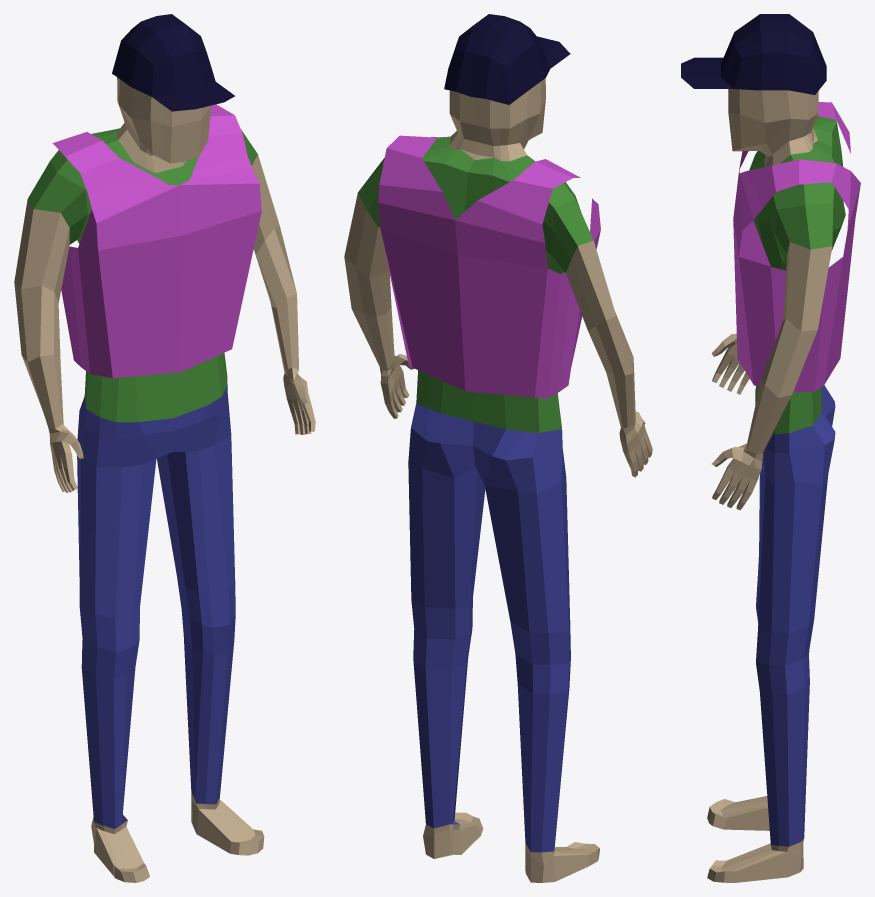
Rendered from scene_kAVefamE2z.glb.
The picture shows the model from 3 angles, left to right: view 1: azimuth 30°, elevation 25°; view 2: azimuth 150°, elevation 25°; view 3: azimuth 270°, elevation 25°; orthographic projection. The views are drawn at different scales.
Parts seen in each view (by area): view 1: Person_Cube.003, Tabbard_Plane; view 2: Person_Cube.003, Tabbard_Plane; view 3: Person_Cube.003, Tabbard_Plane.
Part boxes in pixels (bbox=[...]): Person_Cube.003: bbox=[14, 14, 315, 882]; Tabbard_Plane: bbox=[52, 104, 261, 378]; Person_Cube.003: bbox=[344, 14, 652, 882]; Tabbard_Plane: bbox=[378, 135, 600, 398]; Person_Cube.003: bbox=[681, 14, 845, 882]; Tabbard_Plane: bbox=[733, 102, 860, 392].
Bounding box in the file's own units: 4.04 × 11.83 × 2.32.
